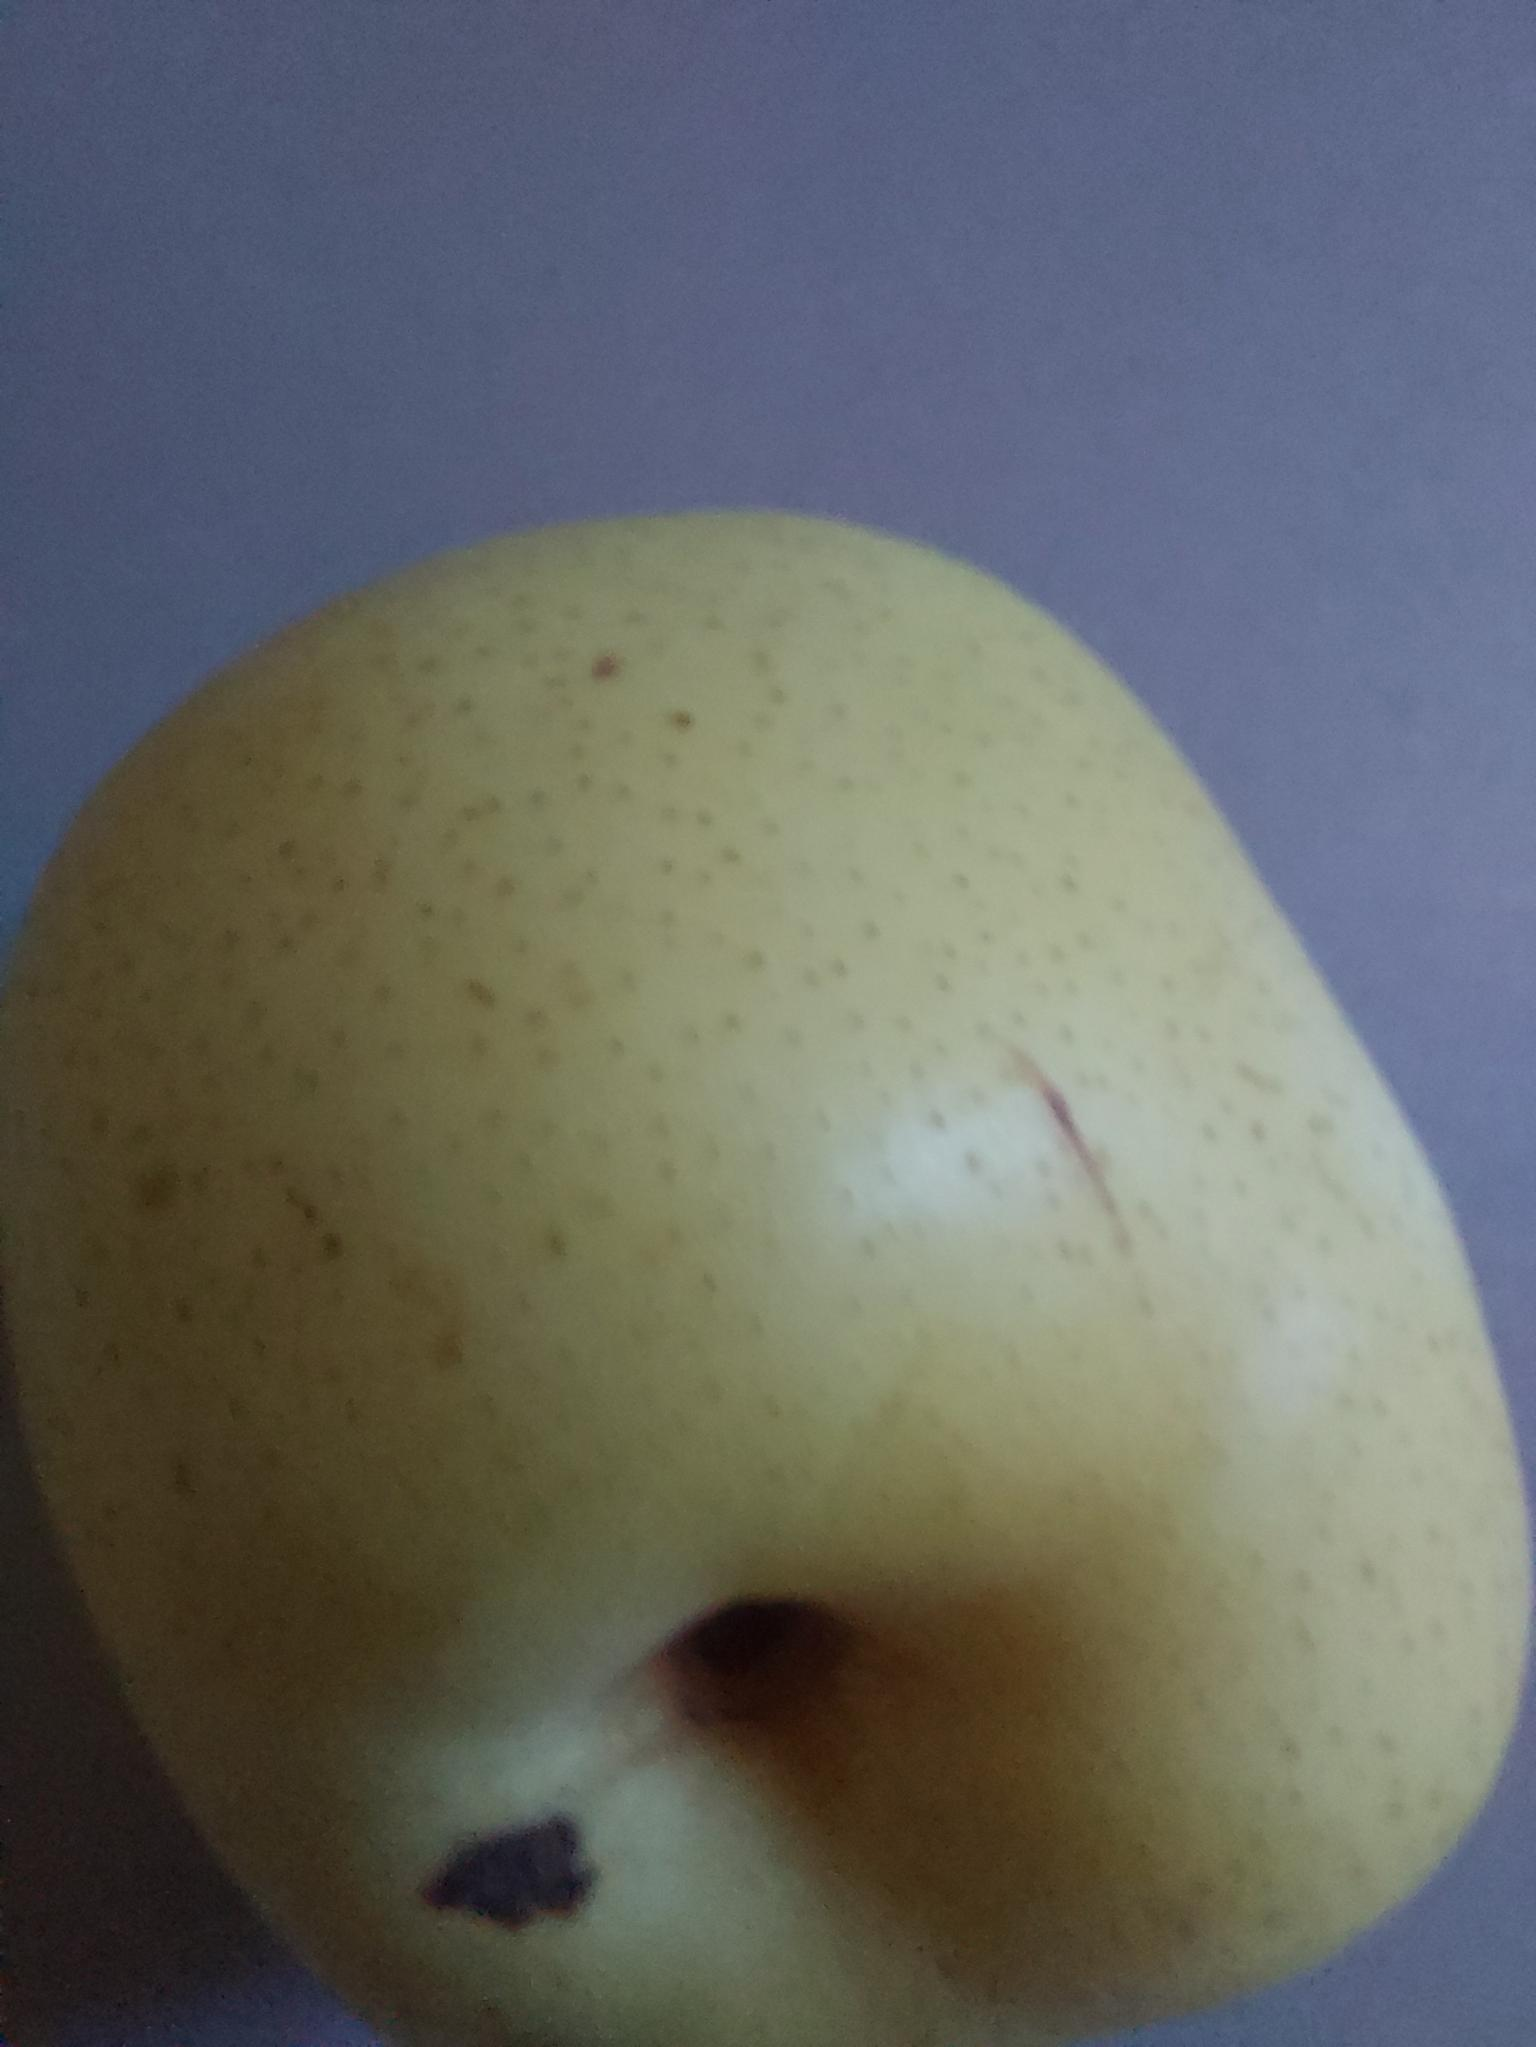Good Pear: (0, 507, 1536, 2047)
